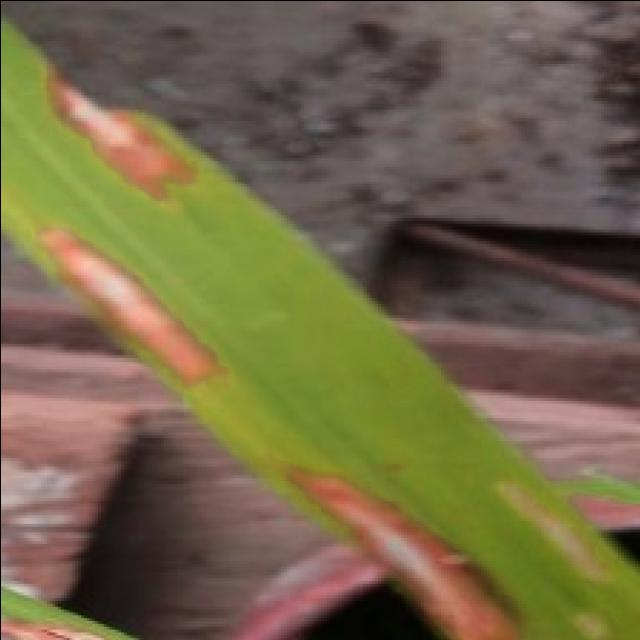Unhealthy: (262, 454, 527, 640), (40, 225, 231, 388), (46, 58, 196, 207), (480, 469, 612, 579), (0, 608, 106, 640), (568, 610, 624, 640)
